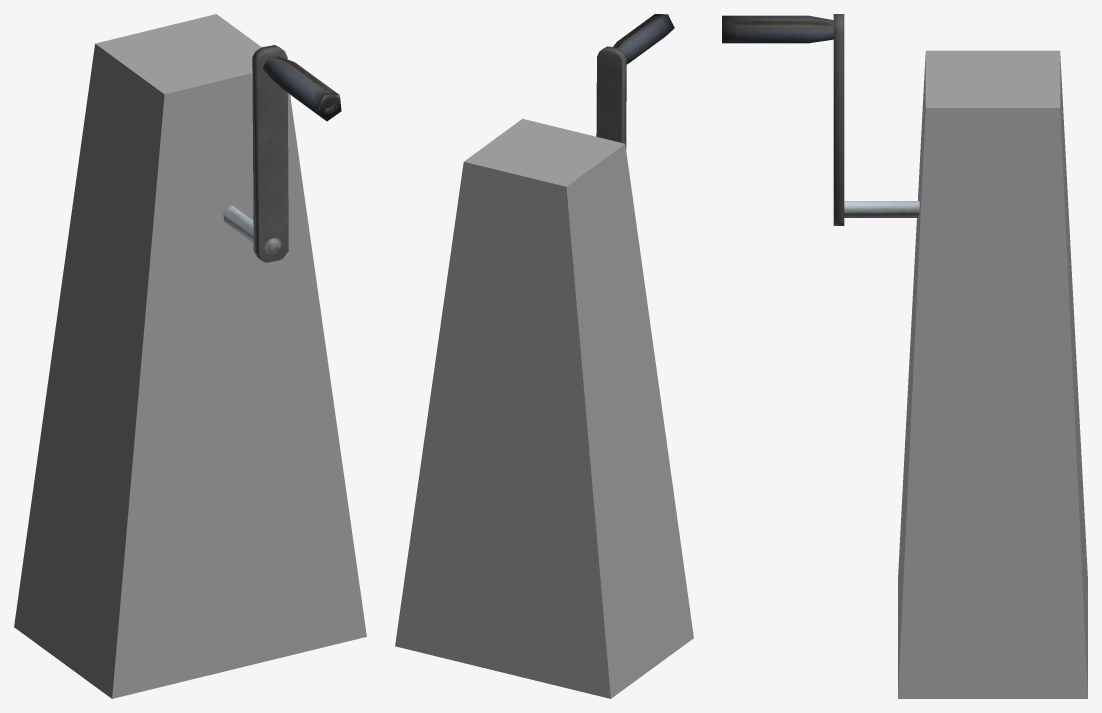
File: Crank.fbx
3 views of the same model, side by side, from view 1: azimuth 30°, elevation 25°; view 2: azimuth 150°, elevation 25°; view 3: azimuth 270°, elevation 25° (orthographic). The views are drawn at different scales.
Visible parts, largest first — view 1: 立方体, Crank; view 2: 立方体, Crank; view 3: 立方体, Crank.
Boxes of the visible parts, x1,y1,x2,y2 form: 立方体: (14,14,366,698); Crank: (223,45,341,262); 立方体: (395,118,693,698); Crank: (596,14,674,149); 立方体: (898,50,1087,698); Crank: (722,14,919,225).
Size of the model in its own units: 1.2 by 2.89 by 1.54.
